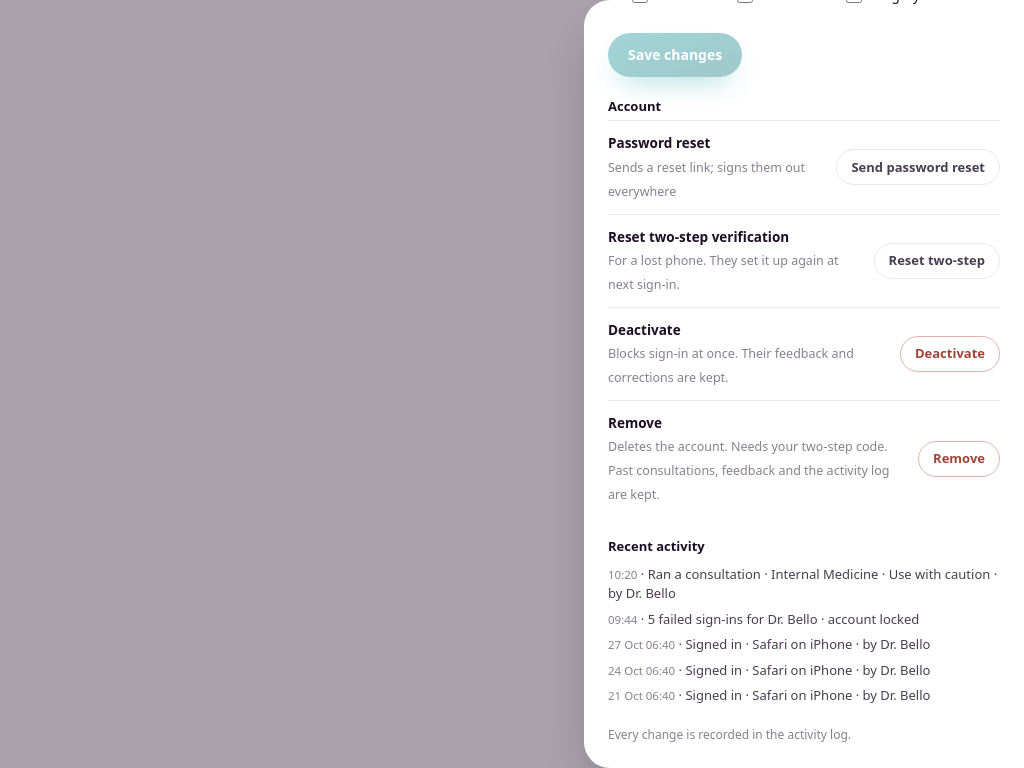
Scenario: AccountActions › too many tries shows the lockout wording
The image size is (1024, 768).
(page scrolled)
Click the button "Remove".
click(959, 459)  # box [918,441,1000,477]
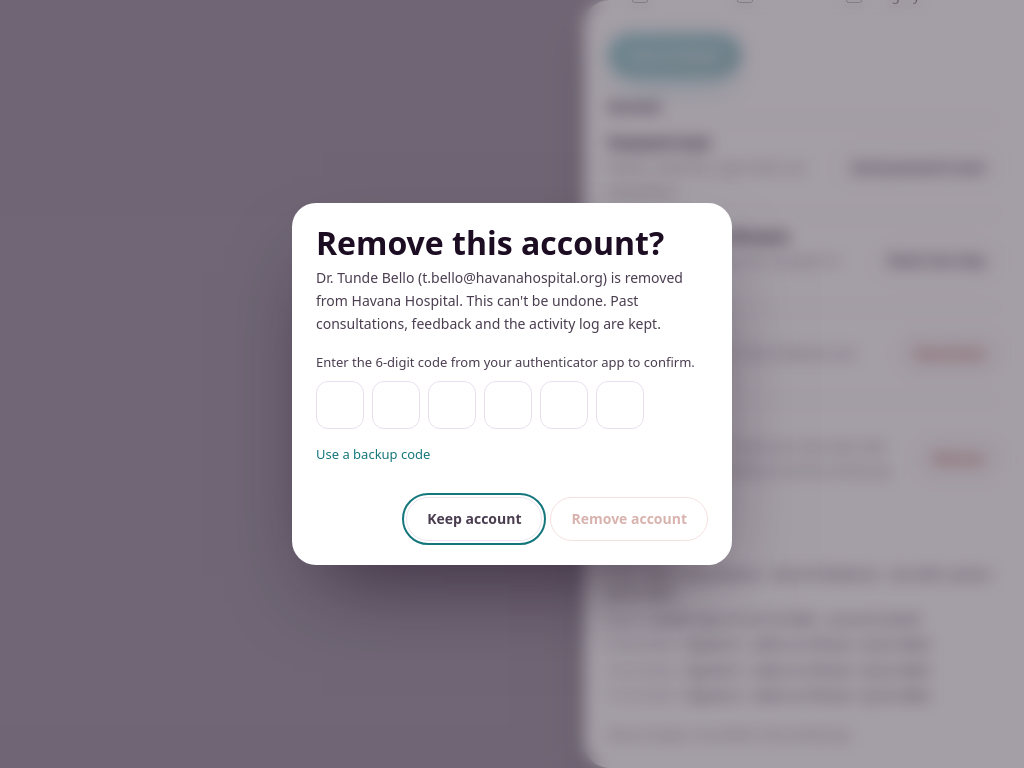
Click the field named "Digit 1 of 6".
click(340, 405)  # box [316,381,364,429]
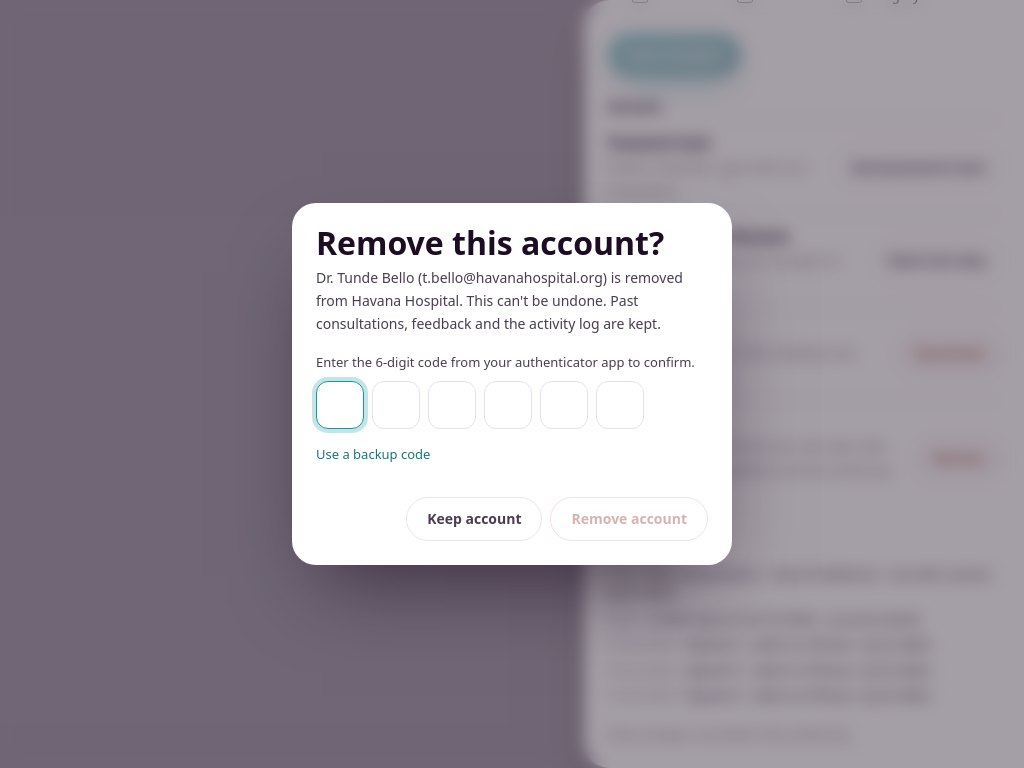
Type keys "123456"
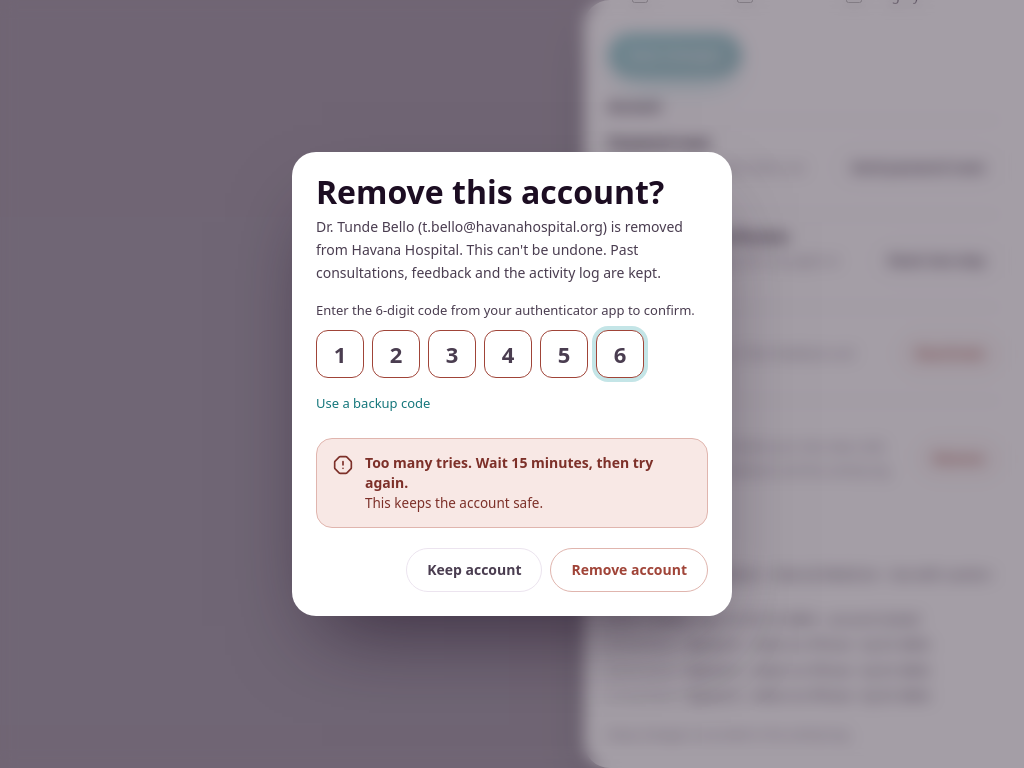
Result: the text "Too many tries. Wait 15 minutes, then try again." is shown at [365,453,691,493]
